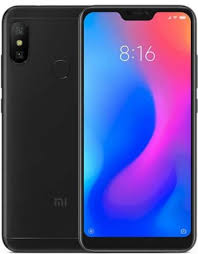mi: (74, 4, 196, 254)
